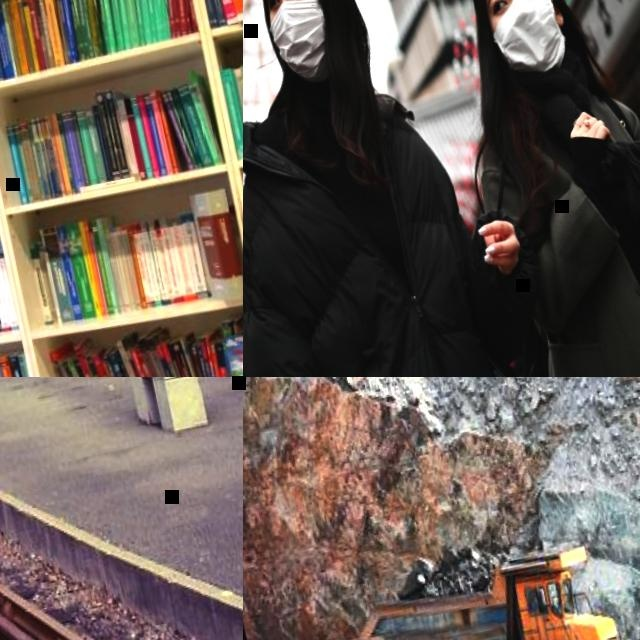Mask: (483, 0, 571, 84), (261, 0, 337, 86)
NO-Safety Vest: (254, 96, 515, 377), (472, 67, 640, 377)
Person: (243, 0, 587, 377), (428, 0, 640, 377)
machinery: (338, 521, 640, 640)
